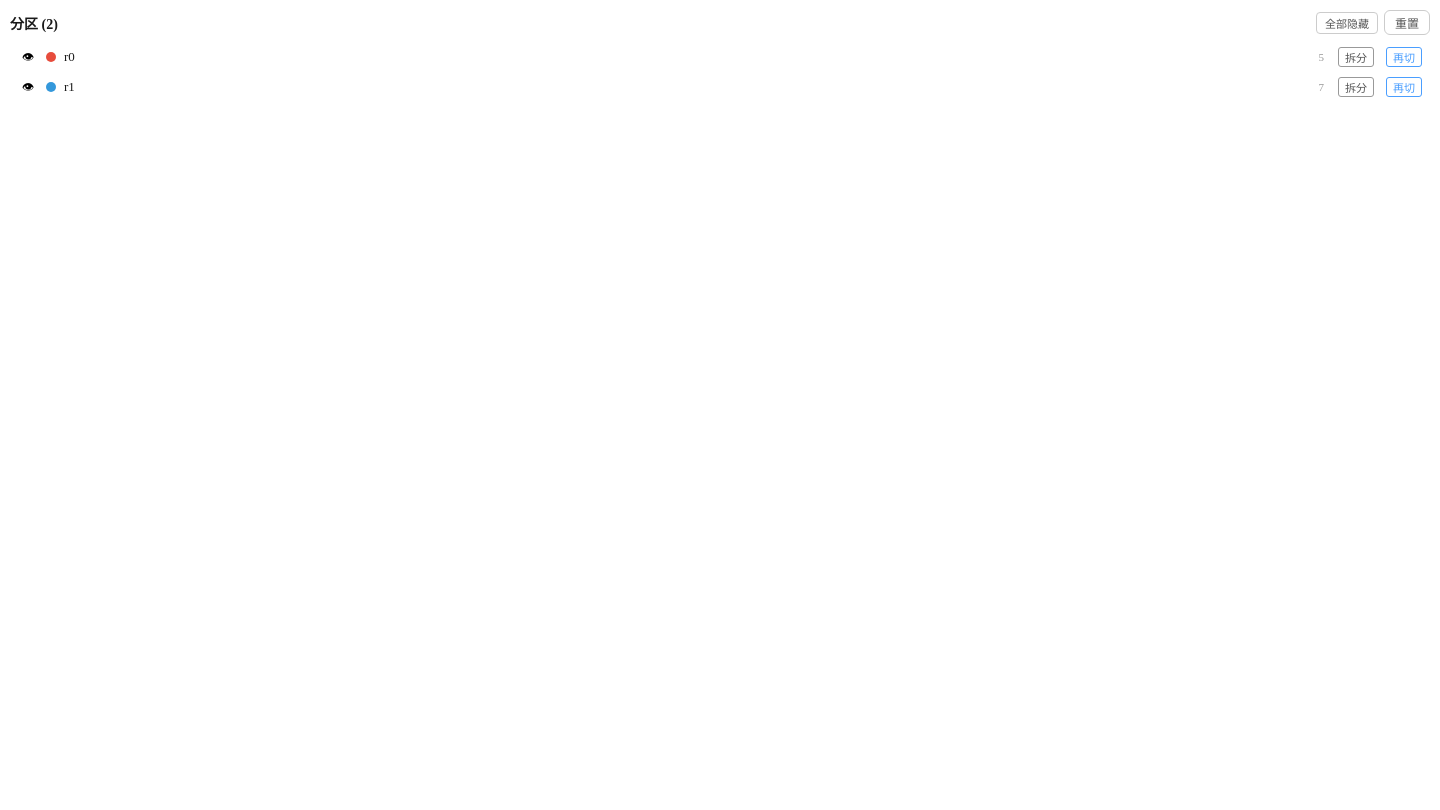
Test case: SegmentsPanel.onResetSegmentation — issue #28 in-app confirm › 取消确认 → 不发任何命令，对话框关闭
Click the button "重置".
click(1407, 22)  # box [1384,10,1430,35]
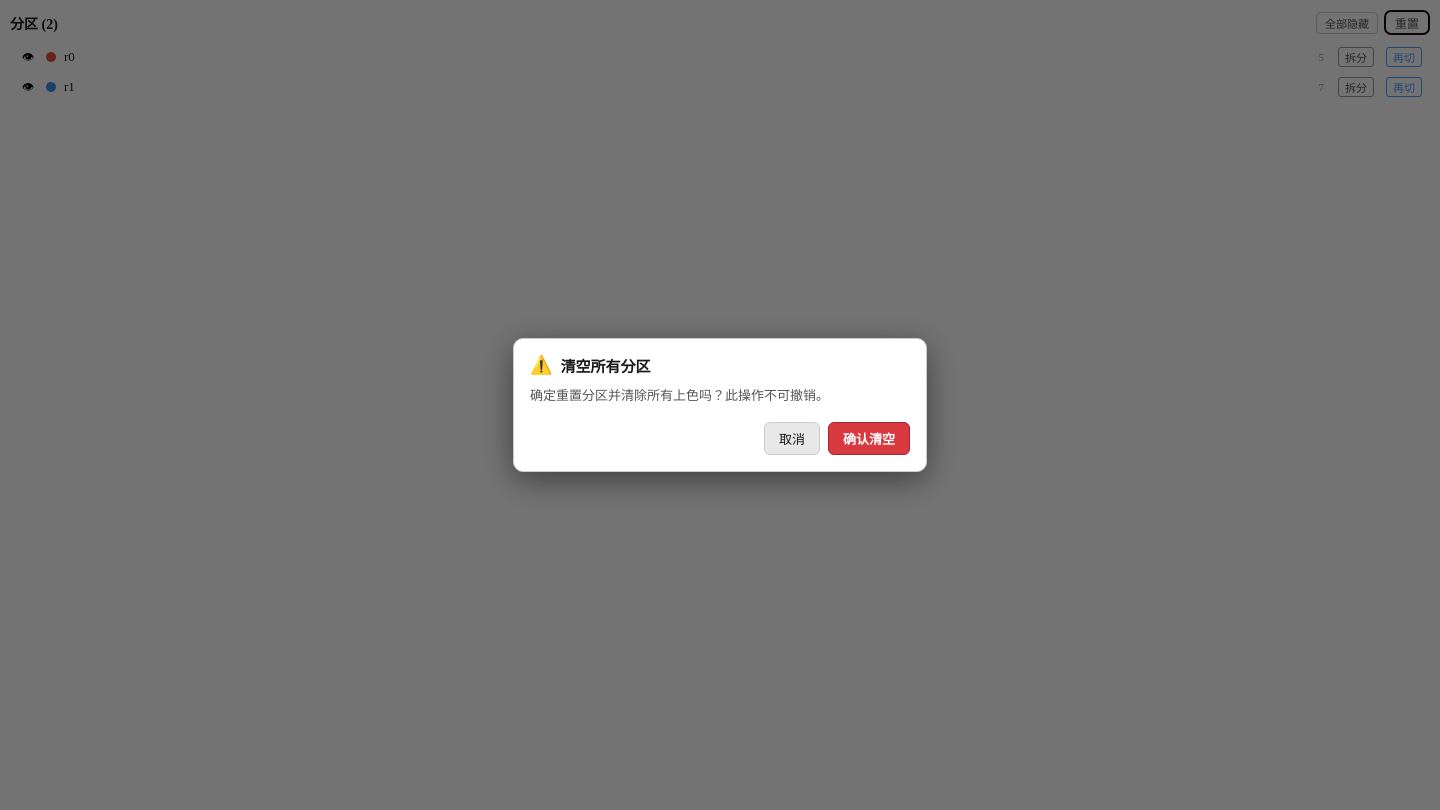
expect the text "清空所有分区" is shown: met, box [560,355,650,376]
Click the button "取消".
click(792, 439)  # box [764,422,820,455]
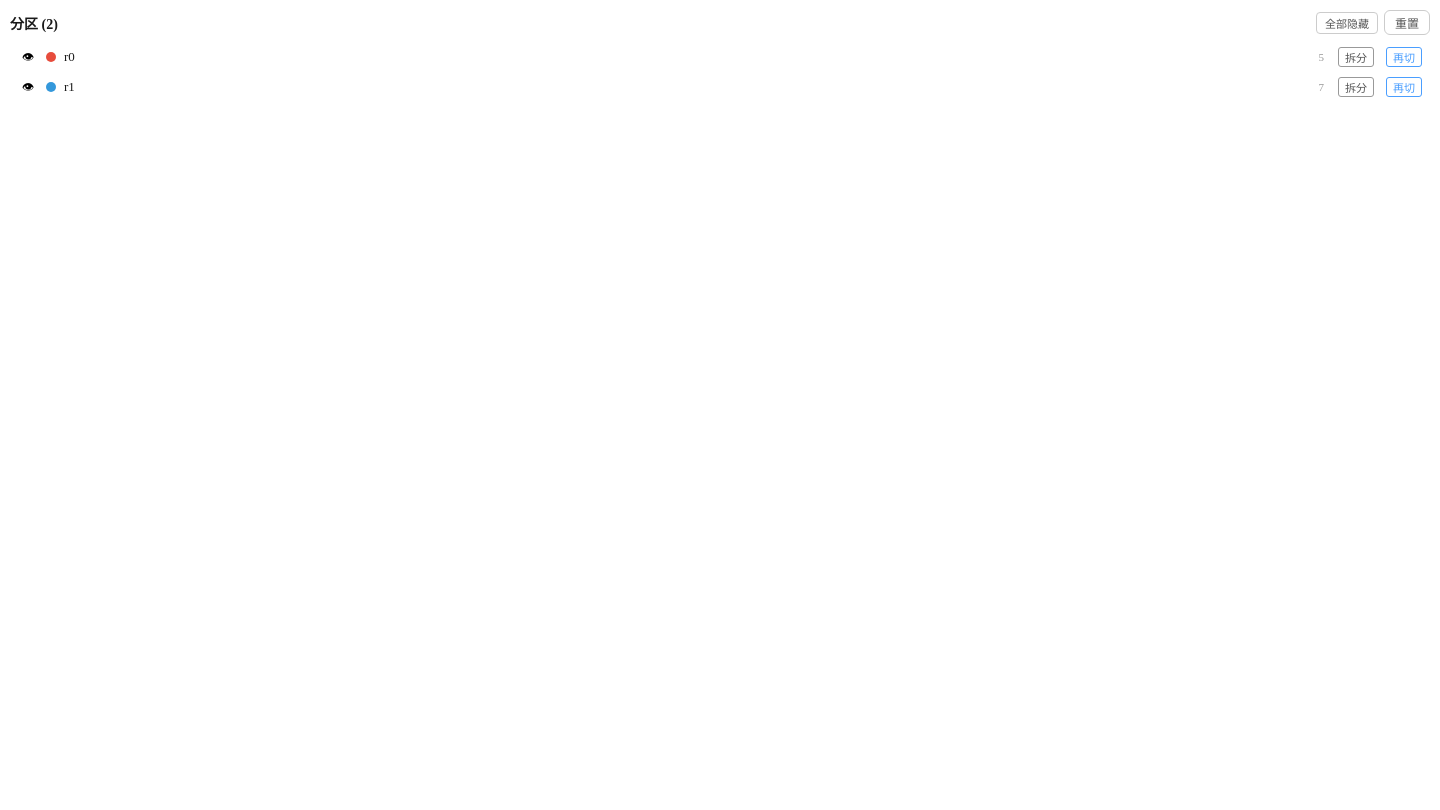
expect the text "清空所有分区" is gone: met
